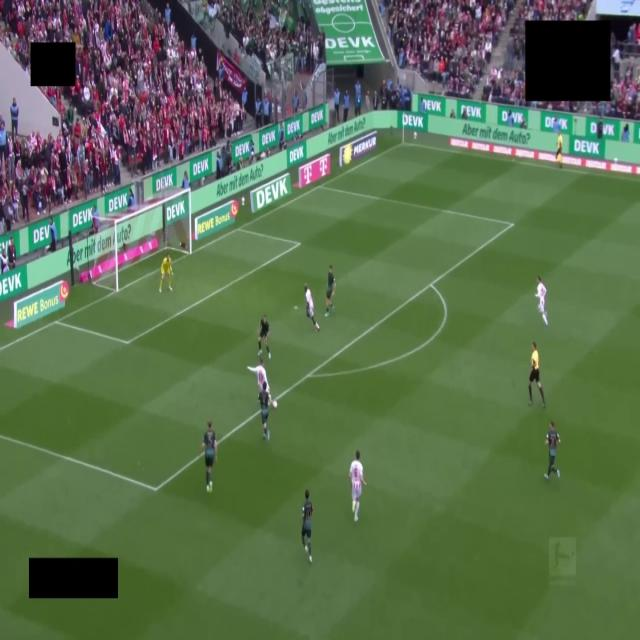ball: (272, 400, 278, 409)
player: (201, 422, 216, 492), (350, 451, 365, 521), (545, 422, 560, 480), (258, 382, 272, 440), (247, 357, 269, 391), (302, 489, 312, 563), (304, 285, 319, 331), (536, 276, 548, 326), (325, 265, 335, 317), (258, 315, 270, 358), (160, 255, 172, 292)
referee: (529, 343, 545, 407)
